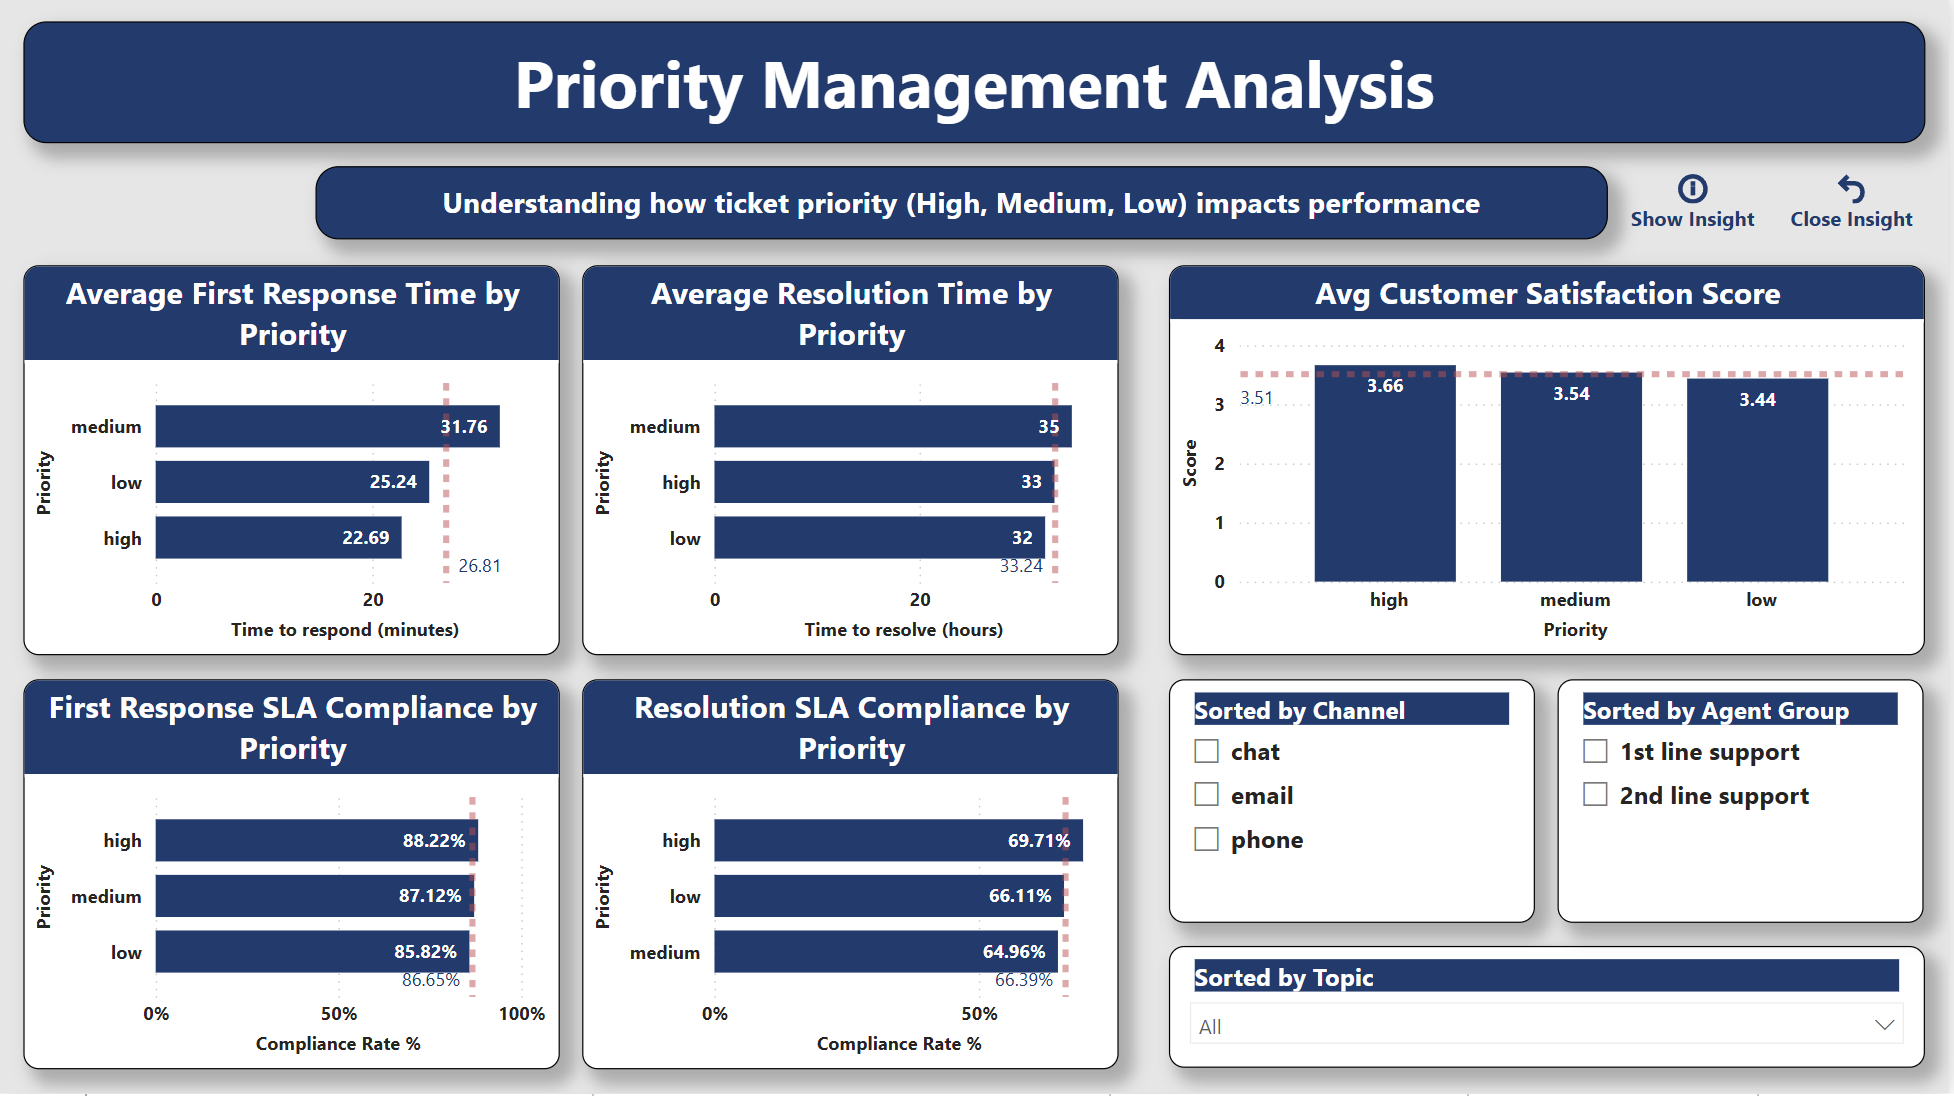

This screenshot's page, from the dashboard's own definition file:
{"tool":"powerbi","page":{"name":"Priority Management Analysis","canvas":[1280,720],"ordinal":2},"visuals":[{"type":"textbox","box":[16,16,1248,80],"z":0},{"type":"textbox","box":[208,112,848,48],"z":1000},{"type":"clusteredBarChart","title":"Average First Response Time by Priority","fields":{"Category":["technical_support_data_engineered.Priority"],"Y":["technical_support_data_engineered.Average First Response Time (Minutes)"]},"box":[16,176,352,256],"z":2000},{"type":"clusteredBarChart","title":"Average Resolution Time by Priority","fields":{"Y":["technical_support_data_engineered.Average Resolution Time (Hours)"],"Category":["technical_support_data_engineered.Priority"]},"box":[384,176,352,256],"z":3000},{"type":"clusteredBarChart","title":"First Response SLA Compliance by Priority","fields":{"Y":["technical_support_data_engineered.First Response SLA Compliance (%)"],"Category":["technical_support_data_engineered.Priority"]},"box":[16,448,352,256],"z":4000},{"type":"clusteredBarChart","title":"Resolution SLA Compliance by Priority","fields":{"Y":["technical_support_data_engineered.Resolution SLA Compliance (%)"],"Category":["technical_support_data_engineered.Priority"]},"box":[384,448,352,256],"z":5000},{"type":"clusteredColumnChart","title":"Avg Customer Satisfaction Score","fields":{"Y":["technical_support_data_engineered.Average CSAT Score"],"Category":["technical_support_data_engineered.Priority"]},"box":[768,176,496,256],"z":6000},{"type":"slicer","fields":{"Values":["technical_support_data_engineered.Source"]},"box":[768,448,240,160],"z":7000},{"type":"slicer","fields":{"Values":["technical_support_data_engineered.Topic"]},"box":[768,624,496,80],"z":8000},{"type":"slicer","fields":{"Values":["technical_support_data_engineered.Agent Group"]},"box":[1024,448,240,160],"z":9000},{"type":"actionButton","title":"show in sight","box":[1056.9,112.4,110.7,47.2],"z":12000},{"type":"actionButton","title":"close in sight","box":[1167.6,112.4,96.1,47.2],"z":13000}]}

Visuals, with their boxes in screenshot pixels (x1, y1, x2, y2), scaled from the page's 1280x720 canvas onto the 1954x1096 screenshot:
textbox: box(24, 24, 1930, 146)
textbox: box(318, 170, 1612, 244)
"Average First Response Time by Priority" clusteredBarChart: box(24, 268, 562, 658)
"Average Resolution Time by Priority" clusteredBarChart: box(586, 268, 1124, 658)
"First Response SLA Compliance by Priority" clusteredBarChart: box(24, 682, 562, 1072)
"Resolution SLA Compliance by Priority" clusteredBarChart: box(586, 682, 1124, 1072)
"Avg Customer Satisfaction Score" clusteredColumnChart: box(1172, 268, 1930, 658)
slicer - technical_support_data_engineered.Source: box(1172, 682, 1539, 926)
slicer - technical_support_data_engineered.Topic: box(1172, 950, 1930, 1072)
slicer - technical_support_data_engineered.Agent Group: box(1563, 682, 1930, 926)
"show in sight" actionButton: box(1613, 171, 1782, 243)
"close in sight" actionButton: box(1782, 171, 1929, 243)
